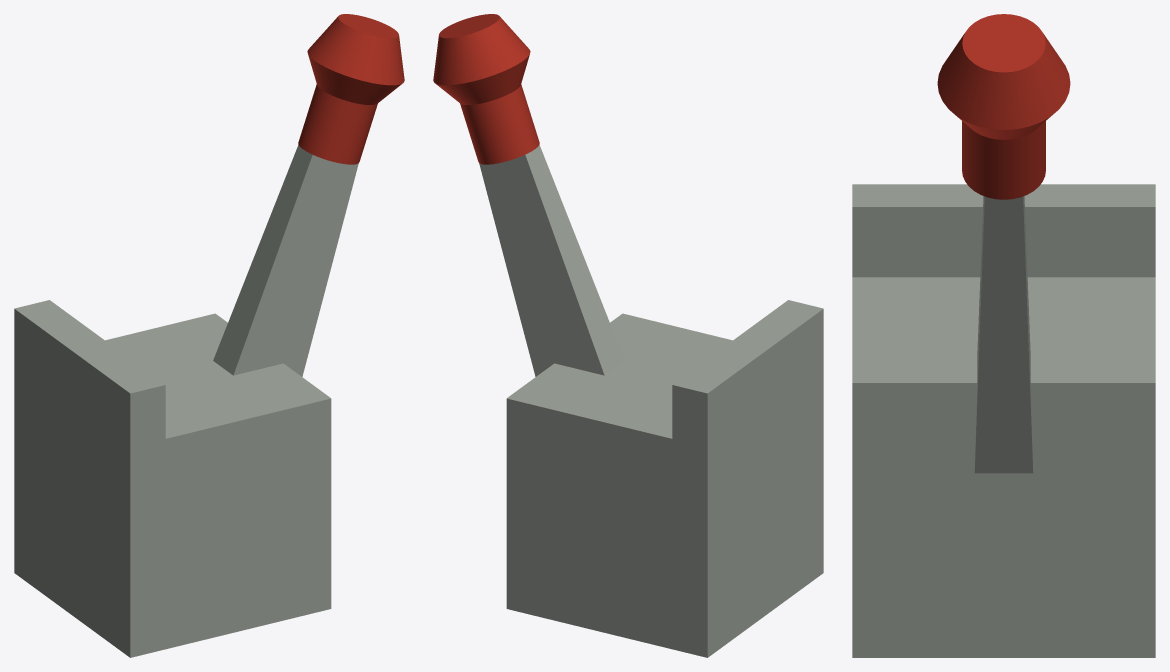
Rendered from şalter.fbx.
The picture shows the model from 3 angles, left to right: view 1: azimuth 30°, elevation 25°; view 2: azimuth 150°, elevation 25°; view 3: azimuth 270°, elevation 25°; orthographic projection. The views are drawn at different scales.
Visible parts, largest first — view 1: Cube, Cylinder; view 2: Cube, Cylinder; view 3: Cube, Cylinder.
Boxes of the visible parts, x1,y1,x2,y2 form: Cube: [14, 300, 331, 657]; Cylinder: [213, 14, 404, 376]; Cube: [506, 300, 823, 657]; Cylinder: [433, 14, 624, 376]; Cube: [852, 184, 1155, 657]; Cylinder: [937, 14, 1070, 473].
Bounding box in the file's own units: 165 × 255 × 102.
